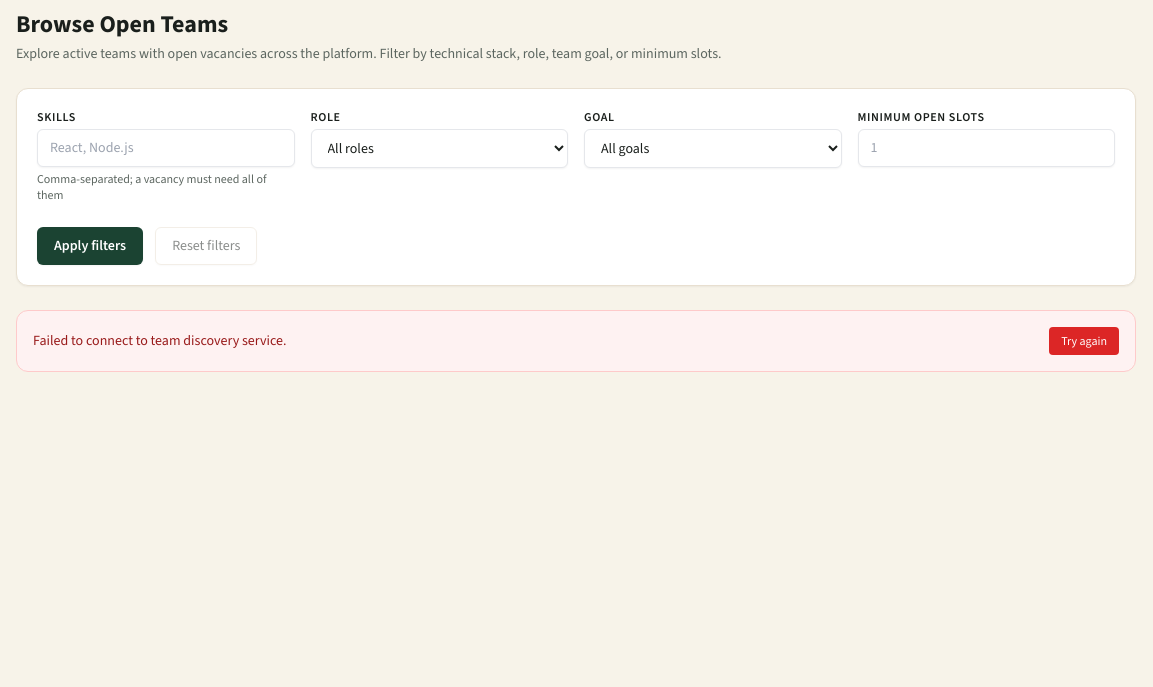
OpenTeamsBoard component (US-013 / Task 4) › renders error alert with "Try again" button when API rejects, and retries on click
Expected: the text "Failed to connect to team discovery service." is shown, [33,331,286,351]
What coordinates should you click on to do the following:
click the button "Try again"
I would click on:
 (1084, 341)
Its box is [1049,327,1119,355].
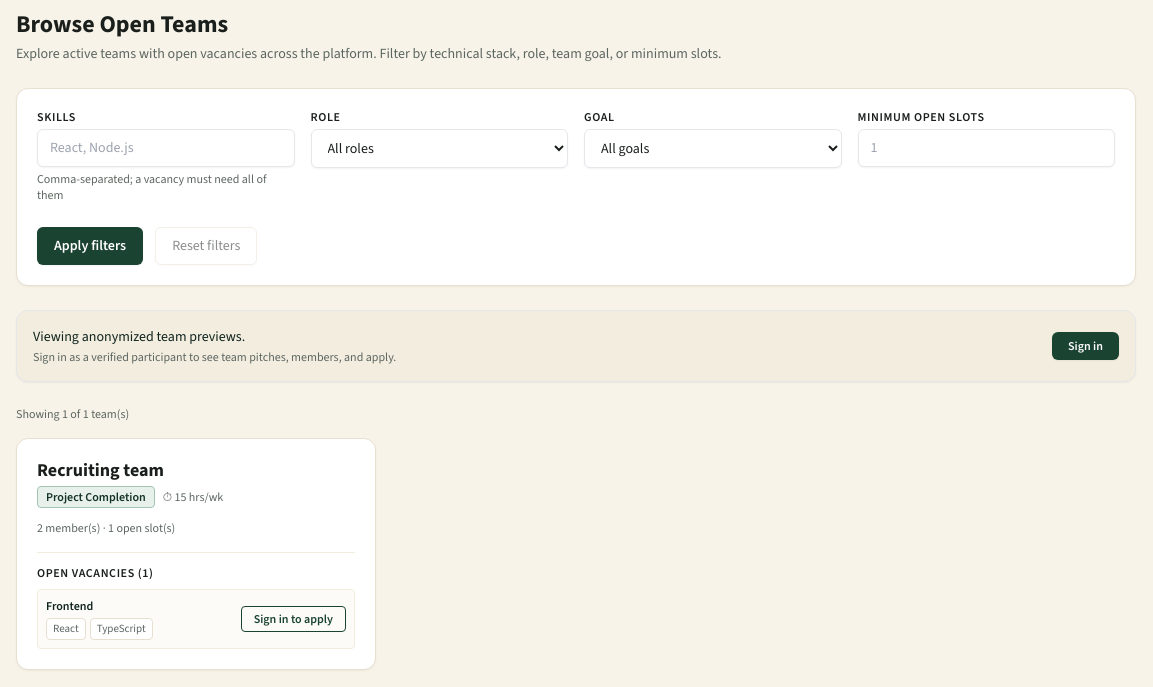
Now the heading "Recruiting team" is shown, box [37,458,164,482]
